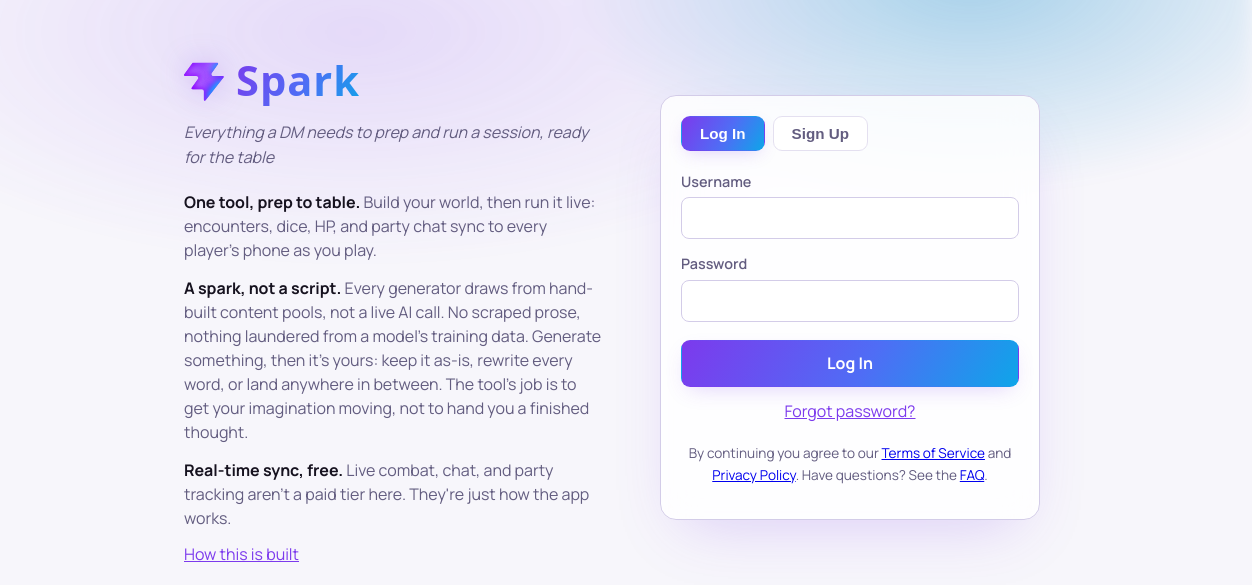
Test case: AuthPage › shows the error message when login() rejects
Type "gary" into the field labelled "Username" at (850, 218), box [681,197,1019,239]
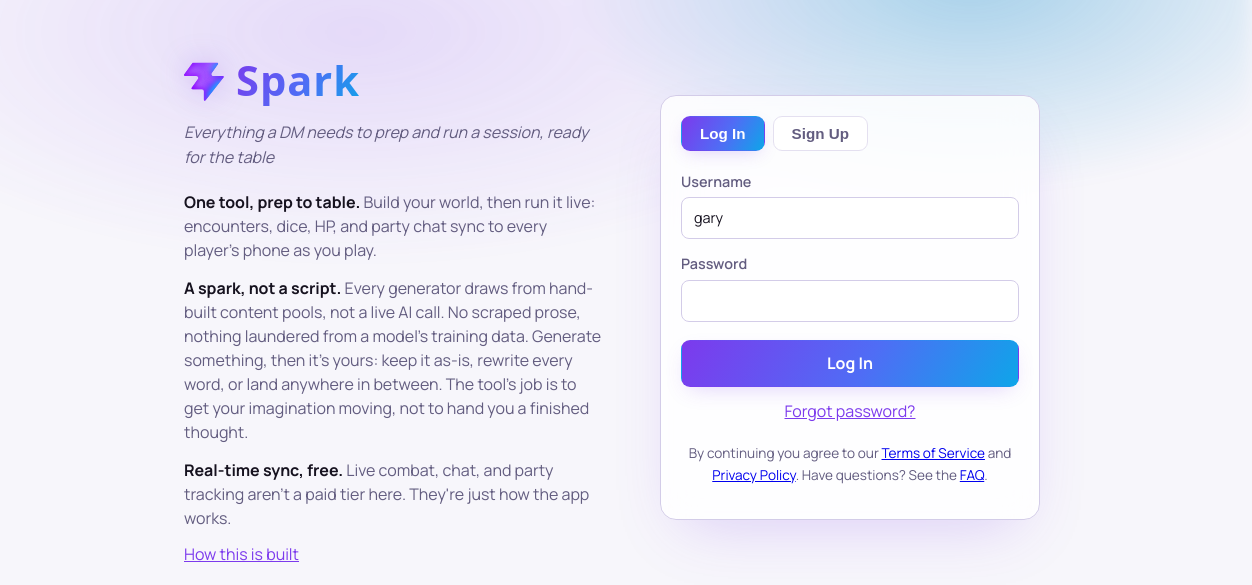
Type "wrong" into the password field labelled "Password" at (850, 301), box [681,280,1019,322]
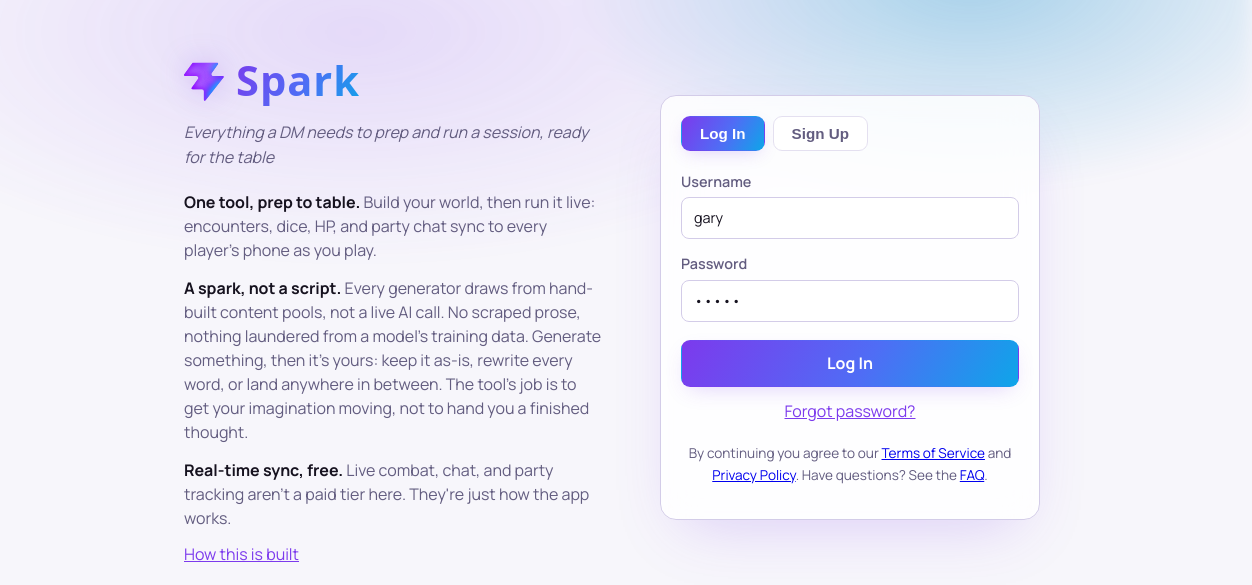
Click the button "Log In" below "Username" at (850, 363), box [681,340,1019,387]
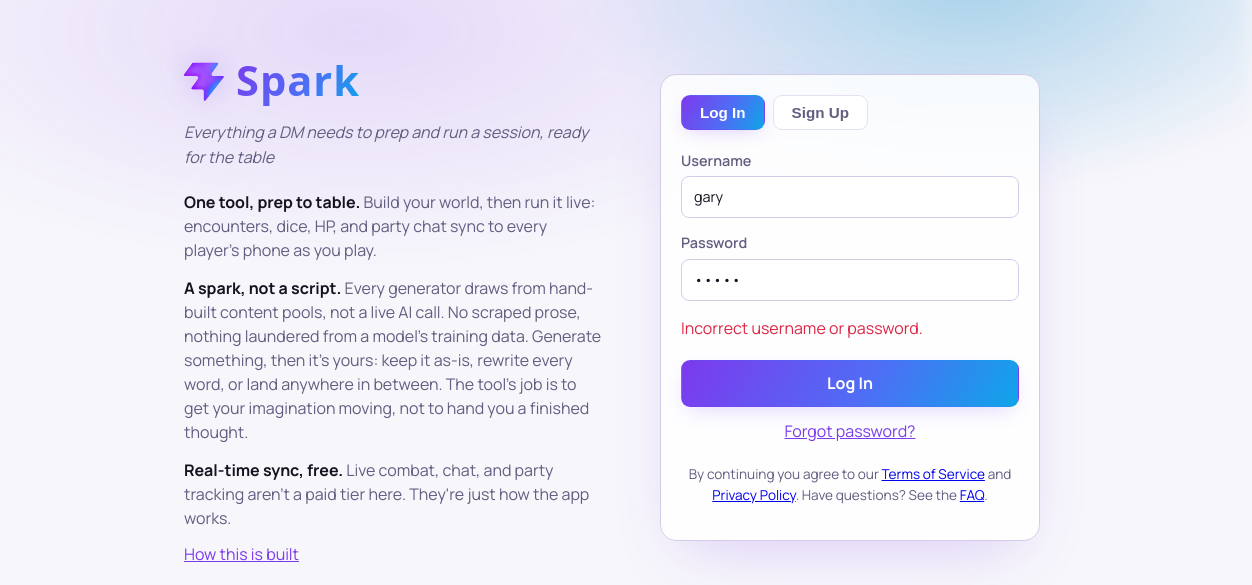
Expected: the text "Incorrect username or password." is shown, [681,316,923,338]
